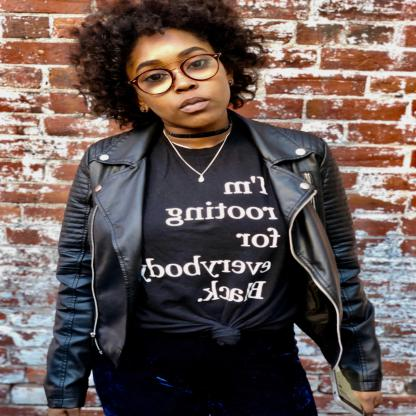Eye: (142, 70, 168, 84), (186, 58, 208, 70)
Mouth: (179, 96, 211, 113)
Nose: (172, 70, 198, 94)
